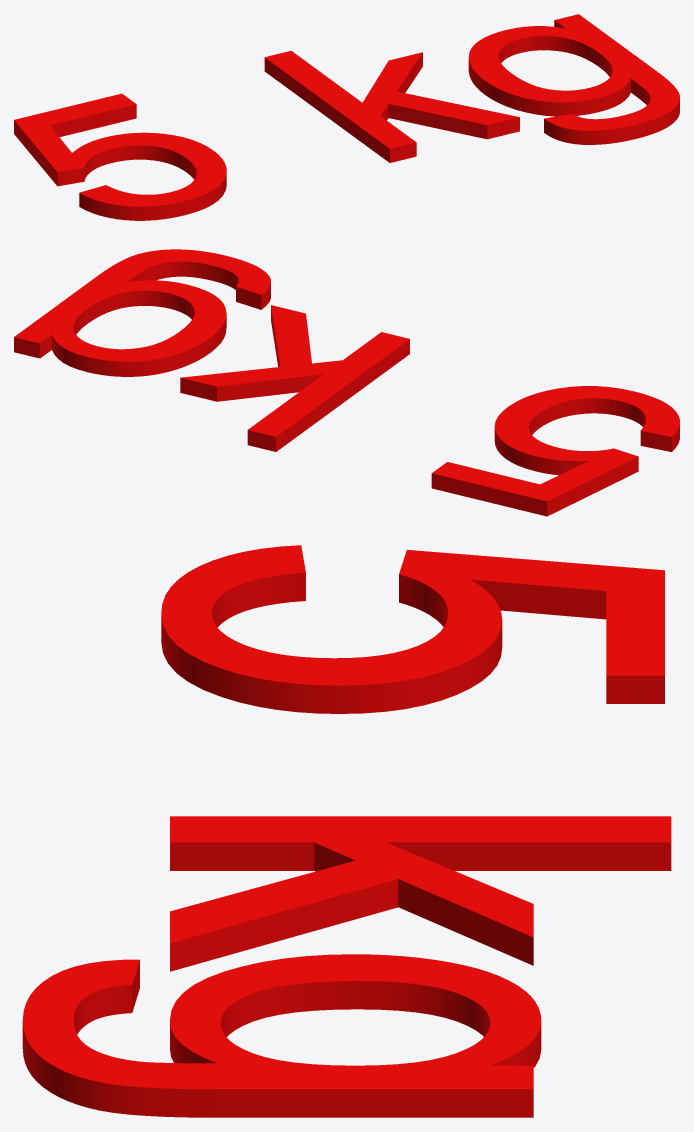
3 renders of one model, top to bottom at view 1: azimuth 30°, elevation 25°; view 2: azimuth 150°, elevation 25°; view 3: azimuth 270°, elevation 25°, orthographic. The views are drawn at different scales.
Parts seen in each view (by area): view 1: 加强型文本001; view 2: 加强型文本001; view 3: 加强型文本001.
Boxes of the visible parts, box(x1,y1,x2,y2) form: 加强型文本001: box(14, 14, 679, 220); 加强型文本001: box(14, 249, 679, 516); 加强型文本001: box(22, 545, 671, 1117).
Bounding box in the file's own units: 41.16 × 1 × 20.72.
